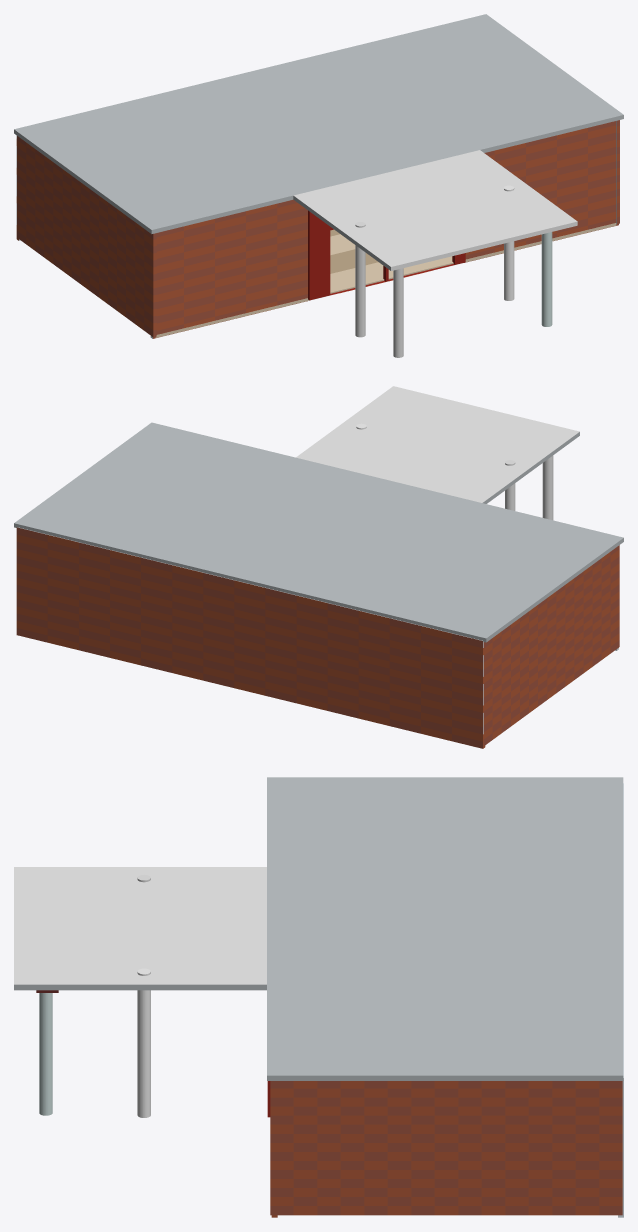
Rendered from museo.glb.
3 renders of one model, top to bottom at view 1: azimuth 30°, elevation 25°; view 2: azimuth 150°, elevation 25°; view 3: azimuth 270°, elevation 25°, orthographic. The views are drawn at different scales.
Visible parts, largest first — view 1: Cubo.004, Cubo.002, Cubo.001, Cube, Cube.001, Cilindro.003, Cilindro.001, Cilindro.002, Cilindro; view 2: Cubo.004, Cubo, Cubo.001, Cilindro.002; view 3: Cubo.004, Cubo.003, Cilindro, Cilindro.003.
Boxes of the visible parts, left/top/right/bottom form: Cubo.004: left=14, top=14, right=623, bottom=270; Cubo.002: left=150, top=121, right=618, bottom=338; Cubo.001: left=17, top=136, right=156, bottom=337; Cube: left=155, top=223, right=616, bottom=337; Cube.001: left=308, top=210, right=465, bottom=300; Cilindro.003: left=541, top=232, right=552, bottom=326; Cilindro.001: left=355, top=222, right=365, bottom=337; Cilindro.002: left=393, top=268, right=403, bottom=357; Cilindro: left=504, top=185, right=514, bottom=300; Cubo.004: left=14, top=386, right=623, bottom=642; Cubo: left=16, top=527, right=485, bottom=748; Cubo.001: left=483, top=545, right=619, bottom=745; Cilindro.002: left=542, top=455, right=553, bottom=520; Cubo.004: left=14, top=777, right=623, bottom=1080; Cubo.003: left=270, top=1081, right=622, bottom=1215; Cilindro: left=137, top=968, right=150, bottom=1117; Cilindro.003: left=39, top=993, right=52, bottom=1115.
Bounding box in the file's own units: 16.4 × 3.73 × 14.18.
